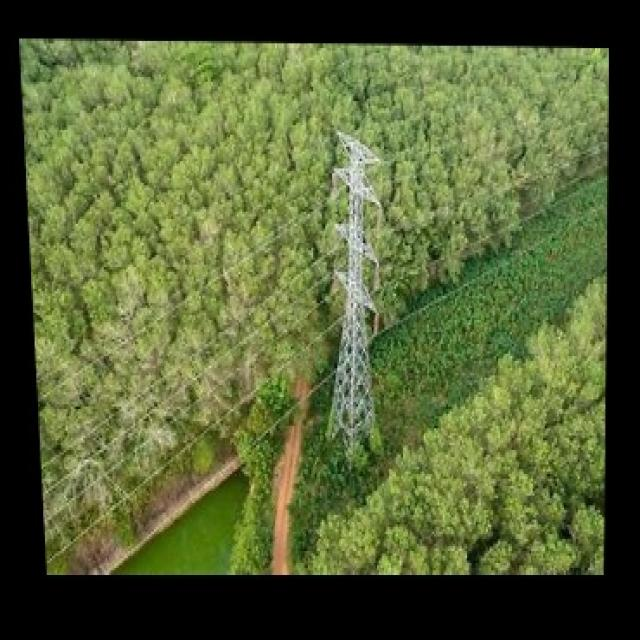utility poles: (311, 123, 413, 458)
